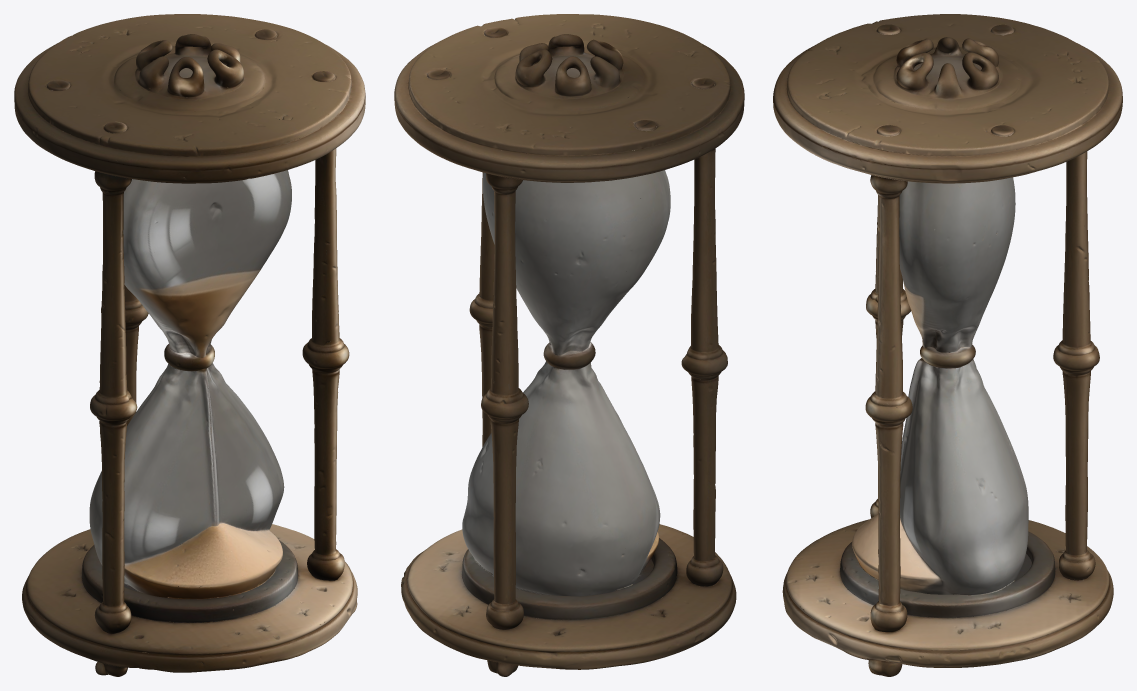
The model's file is antique+hourglass+3d+model.glb.
3 views of the same model, side by side, from view 1: azimuth 30°, elevation 25°; view 2: azimuth 150°, elevation 25°; view 3: azimuth 270°, elevation 25° (orthographic).
Visible parts, largest first — view 1: tripo_node_b346d0db-44b8-42c0-af8f-95889bfd017f; view 2: tripo_node_b346d0db-44b8-42c0-af8f-95889bfd017f; view 3: tripo_node_b346d0db-44b8-42c0-af8f-95889bfd017f.
Part boxes in pixels (bbox=[...]): tripo_node_b346d0db-44b8-42c0-af8f-95889bfd017f: bbox=[14, 14, 365, 676]; tripo_node_b346d0db-44b8-42c0-af8f-95889bfd017f: bbox=[394, 14, 744, 676]; tripo_node_b346d0db-44b8-42c0-af8f-95889bfd017f: bbox=[773, 14, 1122, 676].
Bounding box in the file's own units: 0.5533 × 1 × 0.5532.
1 material, 1 textured.
